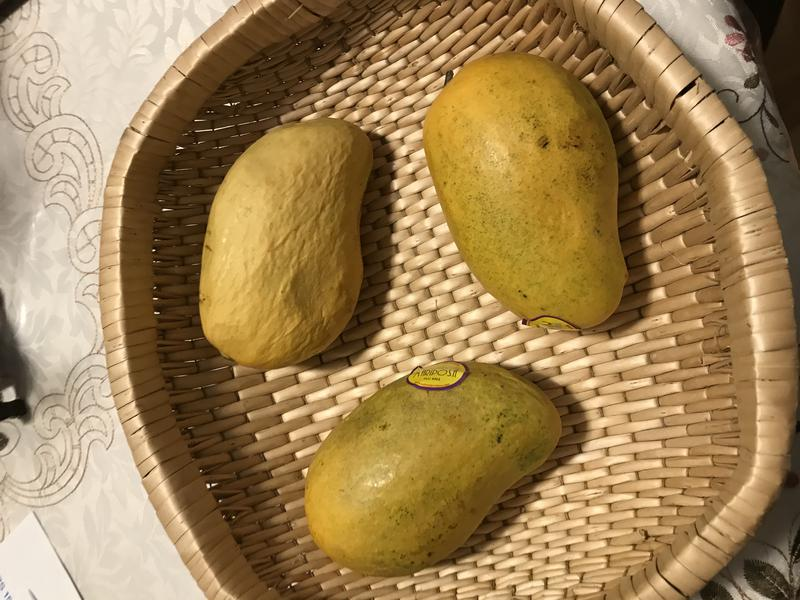mango: (422, 38, 636, 346), (289, 358, 570, 584), (189, 104, 381, 369)
